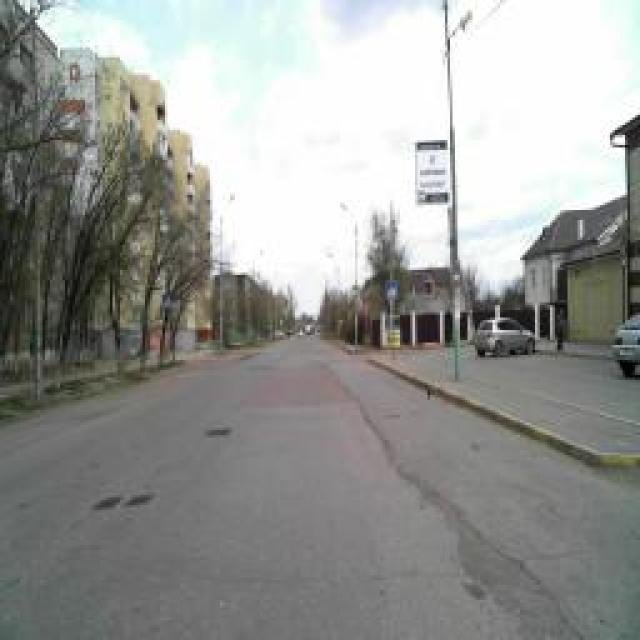sign: (386, 280, 399, 300), (164, 292, 174, 312)
